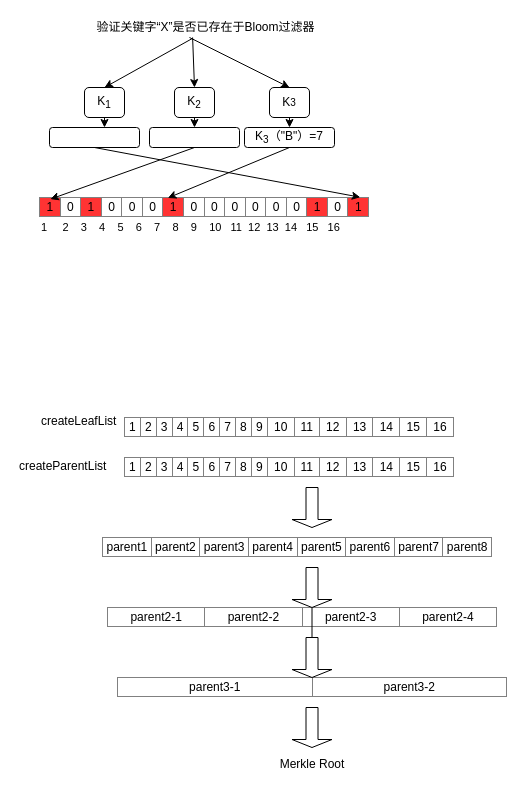
The diagram is 524 pixels wide and 794 high, and some of its shapes have lost their labels. The shapes that lost their labels are listed below. From the top down, each one's centre as x and y in pixels, then its label:
the point at 94,137: K 1 （"X"）=16
the point at 194,137: K 2 （"X"）=1
